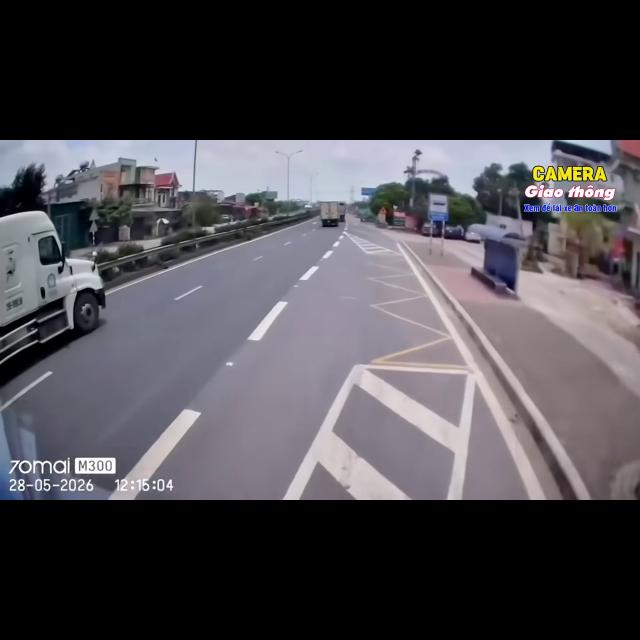car: (421, 223, 441, 237), (444, 226, 463, 239), (465, 231, 481, 242), (221, 214, 230, 221)
truck: (0, 211, 105, 364), (320, 201, 339, 226), (339, 202, 346, 221)
